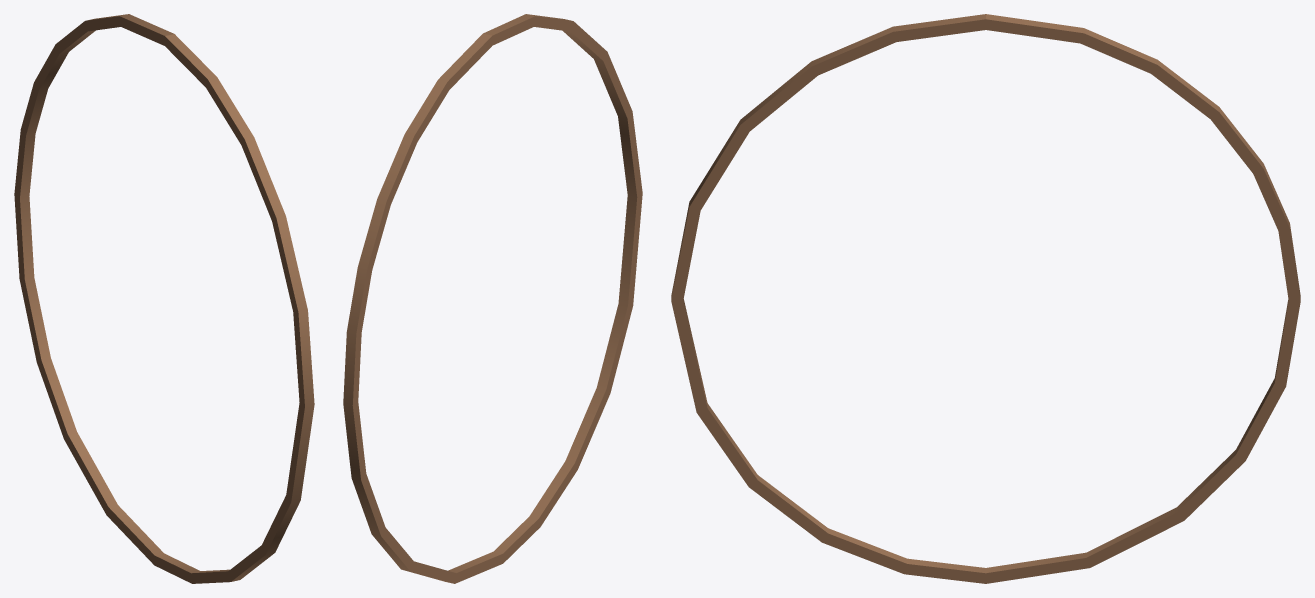
File: S_Metal_Stem_09.fbx
3 views of the same model, side by side, from view 1: azimuth 30°, elevation 25°; view 2: azimuth 150°, elevation 25°; view 3: azimuth 270°, elevation 25° (orthographic). The views are drawn at different scales.
Visible parts, largest first — view 1: S_Metal_Stem_09; view 2: S_Metal_Stem_09; view 3: S_Metal_Stem_09.
Part boxes in pixels (bbox=[...]): S_Metal_Stem_09: bbox=[14, 14, 314, 583]; S_Metal_Stem_09: bbox=[343, 14, 642, 583]; S_Metal_Stem_09: bbox=[671, 14, 1300, 583].
Bounding box in the file's own units: 10.49 × 260 × 260.
